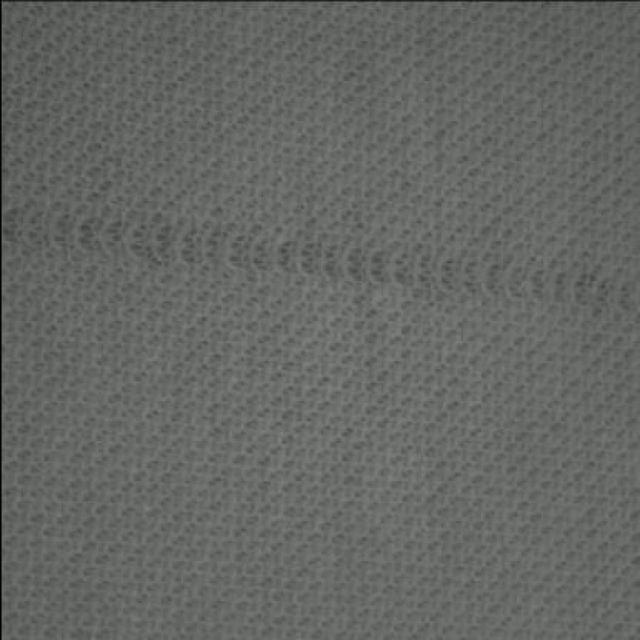Line: (5, 207, 639, 319)
